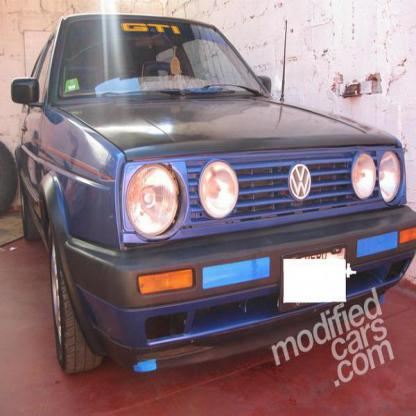Vehicle: (11, 12, 415, 378)
